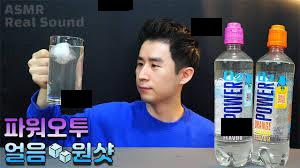powerO2_orange: (253, 18, 298, 167)
